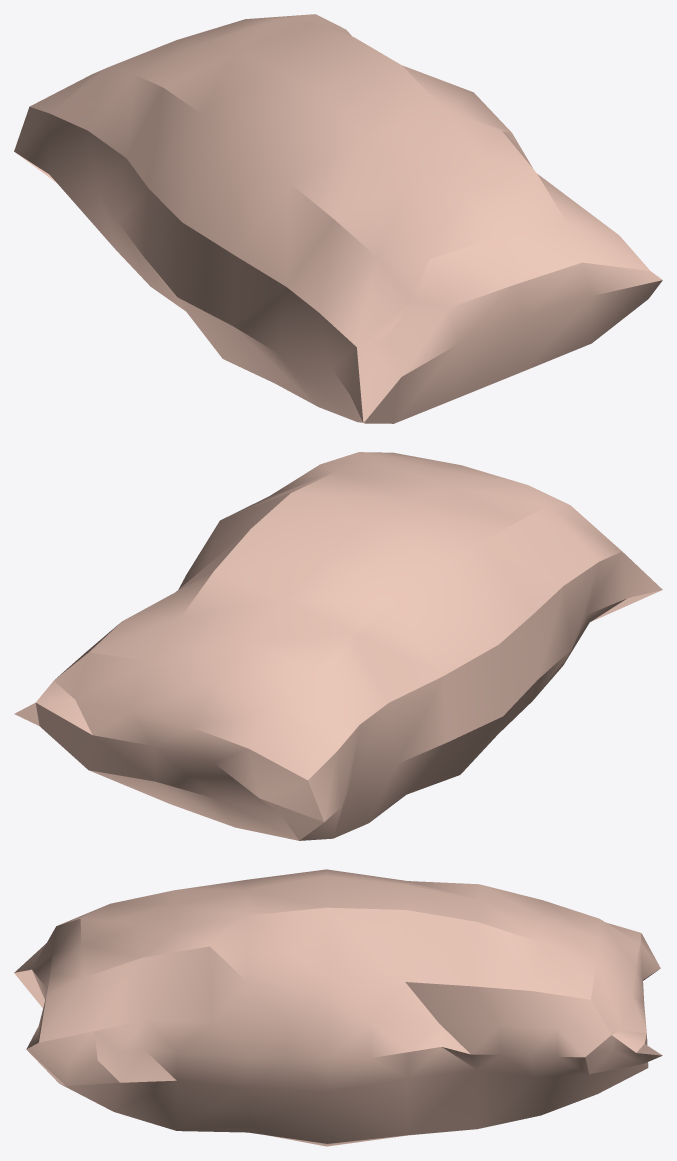
The model's file is SM_Pillow.fbx.
3 views of the same model, one above another, from view 1: azimuth 30°, elevation 25°; view 2: azimuth 150°, elevation 25°; view 3: azimuth 270°, elevation 25° (orthographic). The views are drawn at different scales.
Parts seen in each view (by area): view 1: SM_Pillow; view 2: SM_Pillow; view 3: SM_Pillow.
Part boxes in pixels (x1,y1,x2,y2): SM_Pillow: (14, 14, 662, 423); SM_Pillow: (14, 452, 662, 840); SM_Pillow: (14, 869, 662, 1146).
Bounding box in the file's own units: 23.23 × 18.91 × 44.96.
